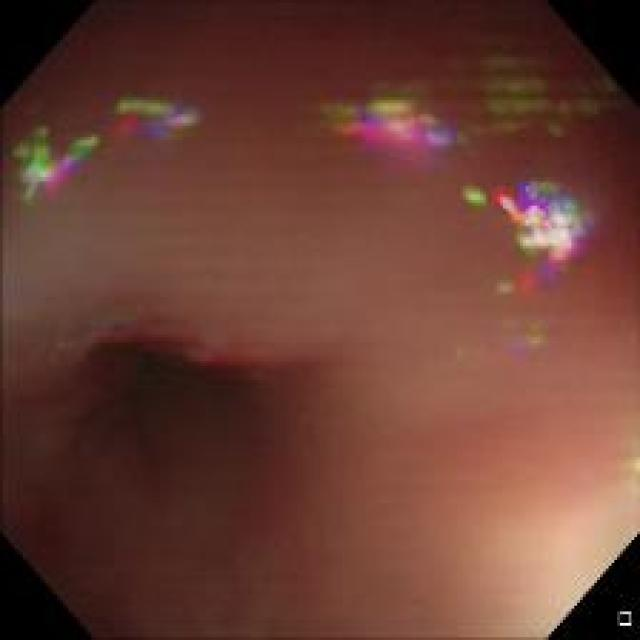color misalignment: (486, 50, 621, 135), (490, 170, 599, 275), (320, 84, 451, 162), (105, 81, 201, 142), (16, 125, 91, 198), (451, 316, 544, 361), (476, 265, 552, 310)
contrast: (59, 314, 314, 565)
